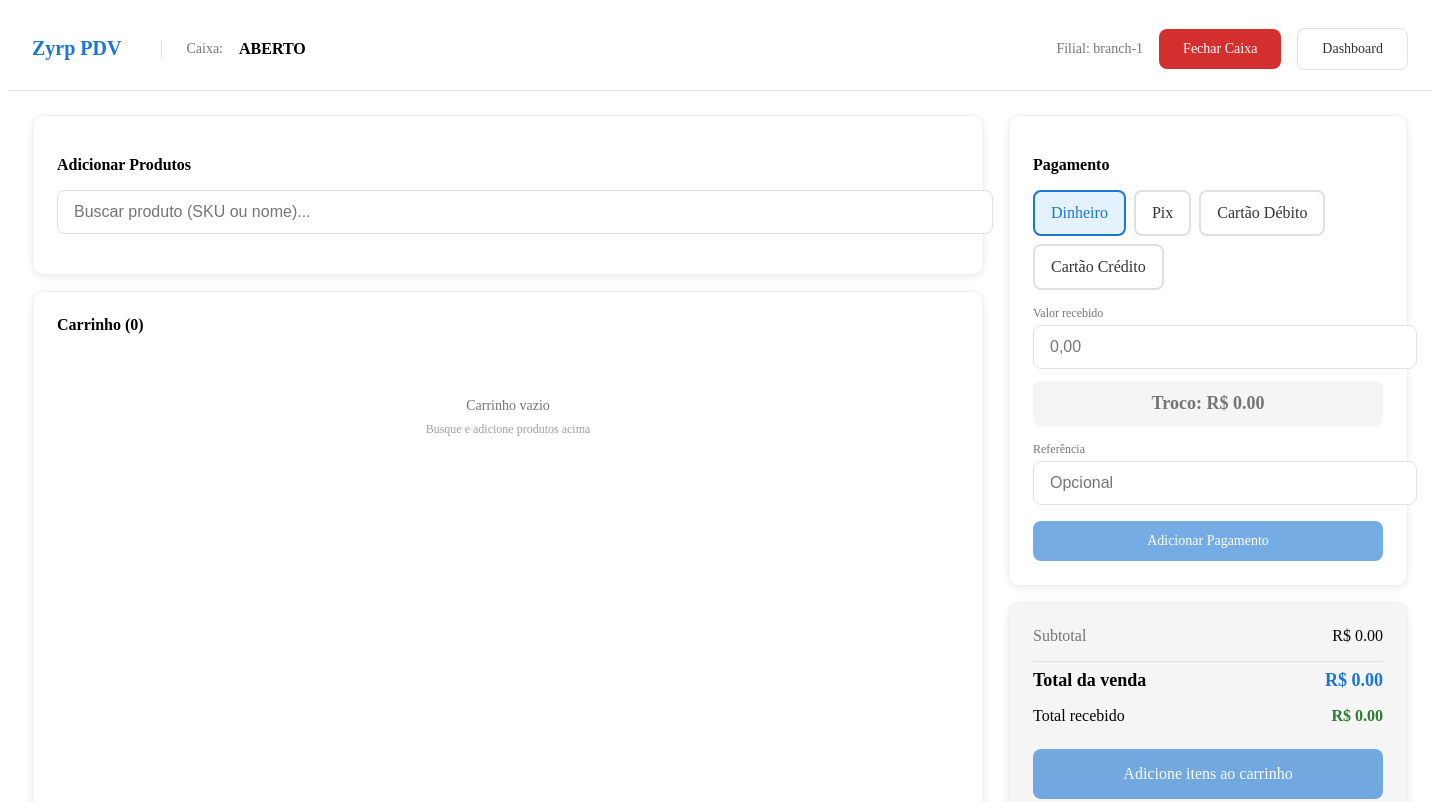
Test case: Sale › adds API product with string price as numeric cart total
Type "Produto PDV" into the field with placeholder "Buscar produto (SKU ou nome)..." at (525, 212), box [57,190,993,234]
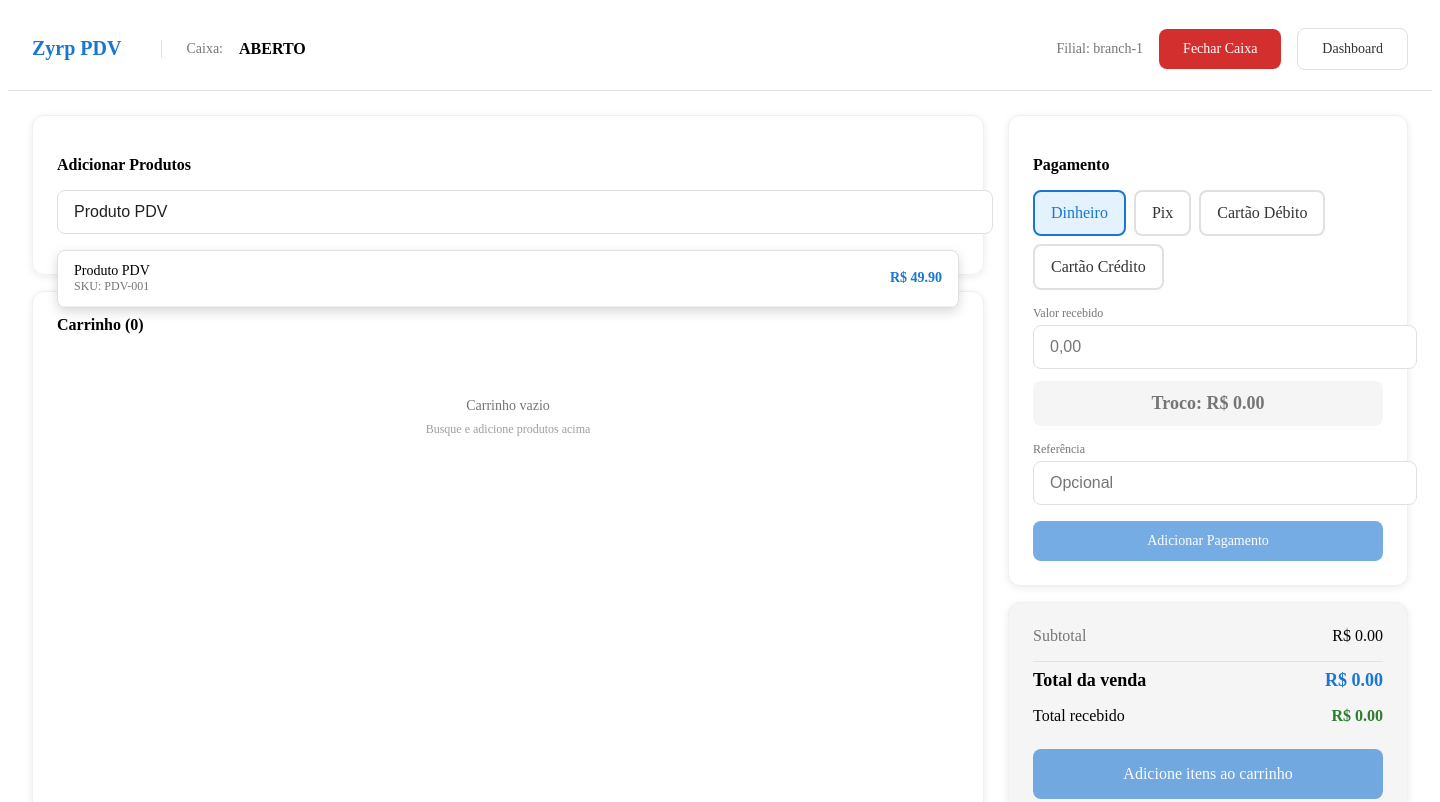
Click the text "Produto PDV" at (112, 271), box [74,263,150,279]
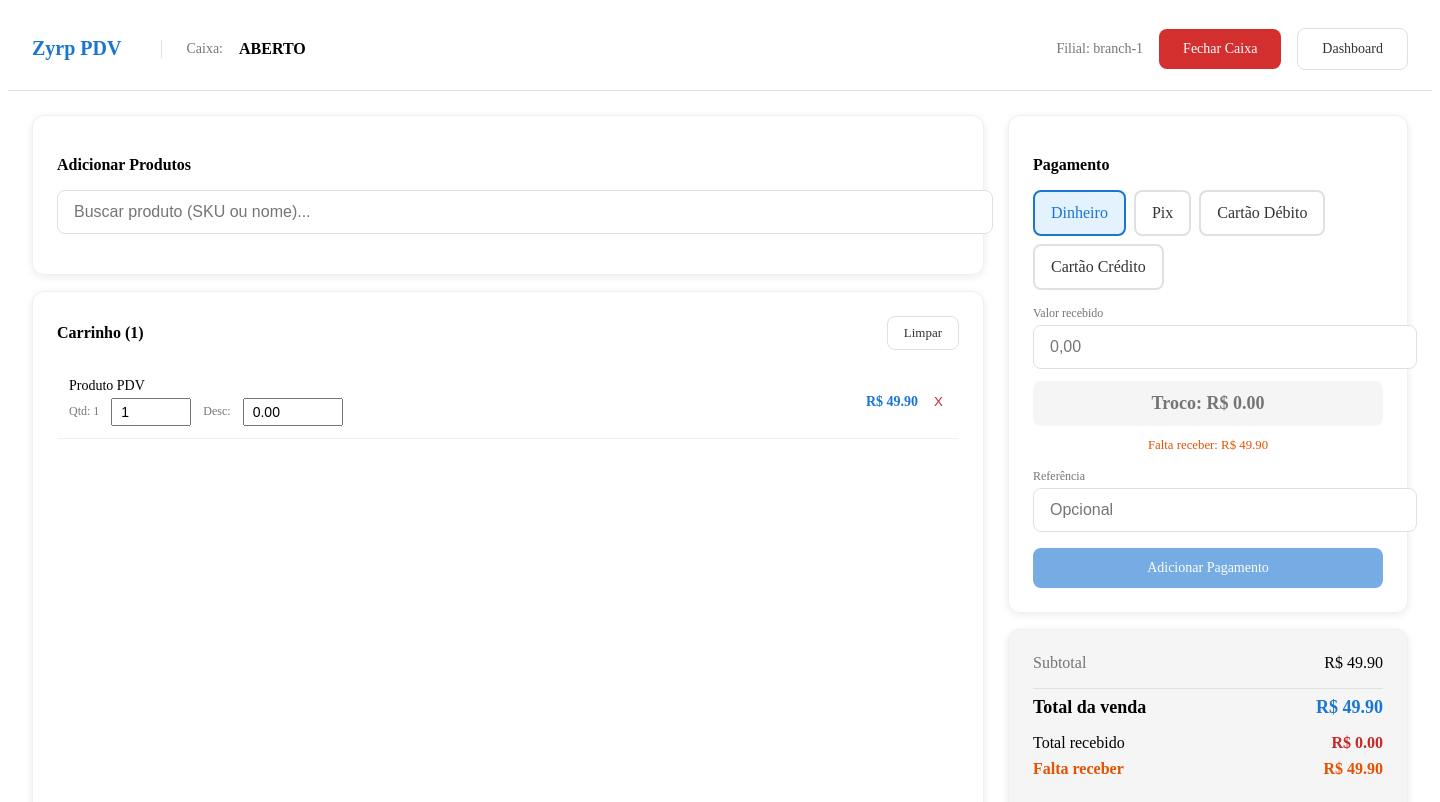
Expected: the text "R$ 49.90" in the row of "Desc:" is shown, [866,394,918,410]
Expected: the heading "Carrinho (1)" is shown, [57,324,144,342]
